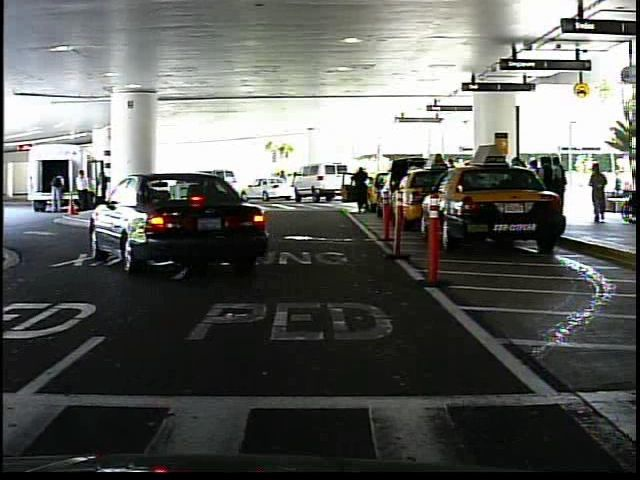person: (592, 162, 612, 227), (351, 165, 375, 218), (278, 168, 288, 178)
